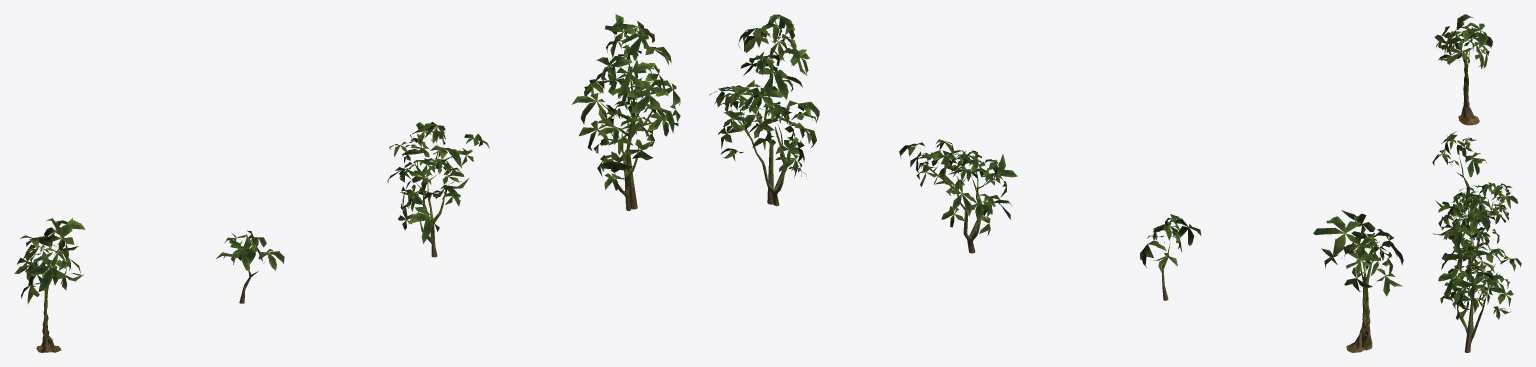
Rendered from pachira_aquatica_01.glb.
The picture shows the model from 3 angles, left to right: view 1: azimuth 30°, elevation 25°; view 2: azimuth 150°, elevation 25°; view 3: azimuth 270°, elevation 25°; orthographic projection. The views are drawn at different scales.
Parts seen in each view (by area): view 1: pachira_aquatica_01_leaves_a, pachira_aquatica_01_bark_a; view 2: pachira_aquatica_01_leaves_a, pachira_aquatica_01_bark_a; view 3: pachira_aquatica_01_leaves_a, pachira_aquatica_01_bark_a.
Boxes of the visible parts, x1=… form: pachira_aquatica_01_leaves_a: x1=14, y1=14, x2=680, y2=304; pachira_aquatica_01_bark_a: x1=36, y1=44, x2=654, y2=352; pachira_aquatica_01_leaves_a: x1=709, y1=14, x2=1403, y2=296; pachira_aquatica_01_bark_a: x1=731, y1=54, x2=1372, y2=352; pachira_aquatica_01_leaves_a: x1=1432, y1=14, x2=1521, y2=319; pachira_aquatica_01_bark_a: x1=1451, y1=50, x2=1499, y2=352.
Size of the model in its own units: 6.87 by 1.89 by 0.9828.
2 materials, 2 textured.
